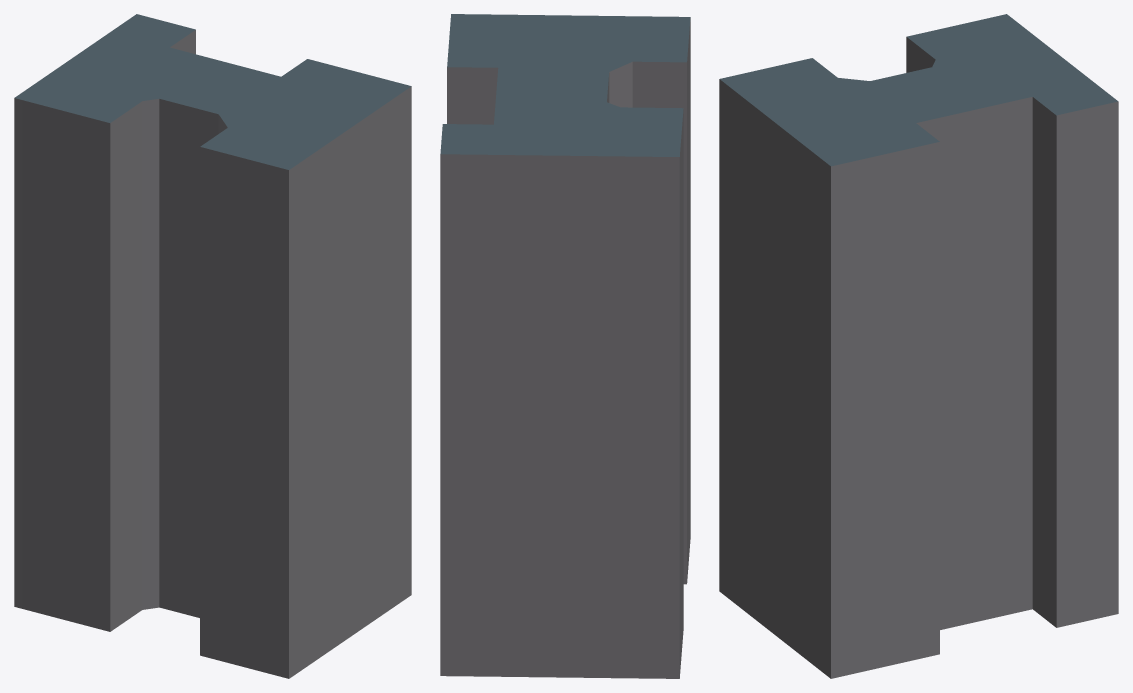
The model's file is nyc-1022641-0.glb.
3 renders of one model, left to right at view 1: azimuth 30°, elevation 25°; view 2: azimuth 150°, elevation 25°; view 3: azimuth 270°, elevation 25°, orthographic. The views are drawn at different scales.
Visible parts, largest first — view 1: nyc-1022641-0; view 2: nyc-1022641-0; view 3: nyc-1022641-0.
Boxes of the visible parts, x1,y1,x2,y2 form: nyc-1022641-0: [14, 14, 411, 678]; nyc-1022641-0: [440, 14, 690, 678]; nyc-1022641-0: [719, 14, 1118, 678].
Bounding box in the file's own units: 29.43 × 46.12 × 32.55.
